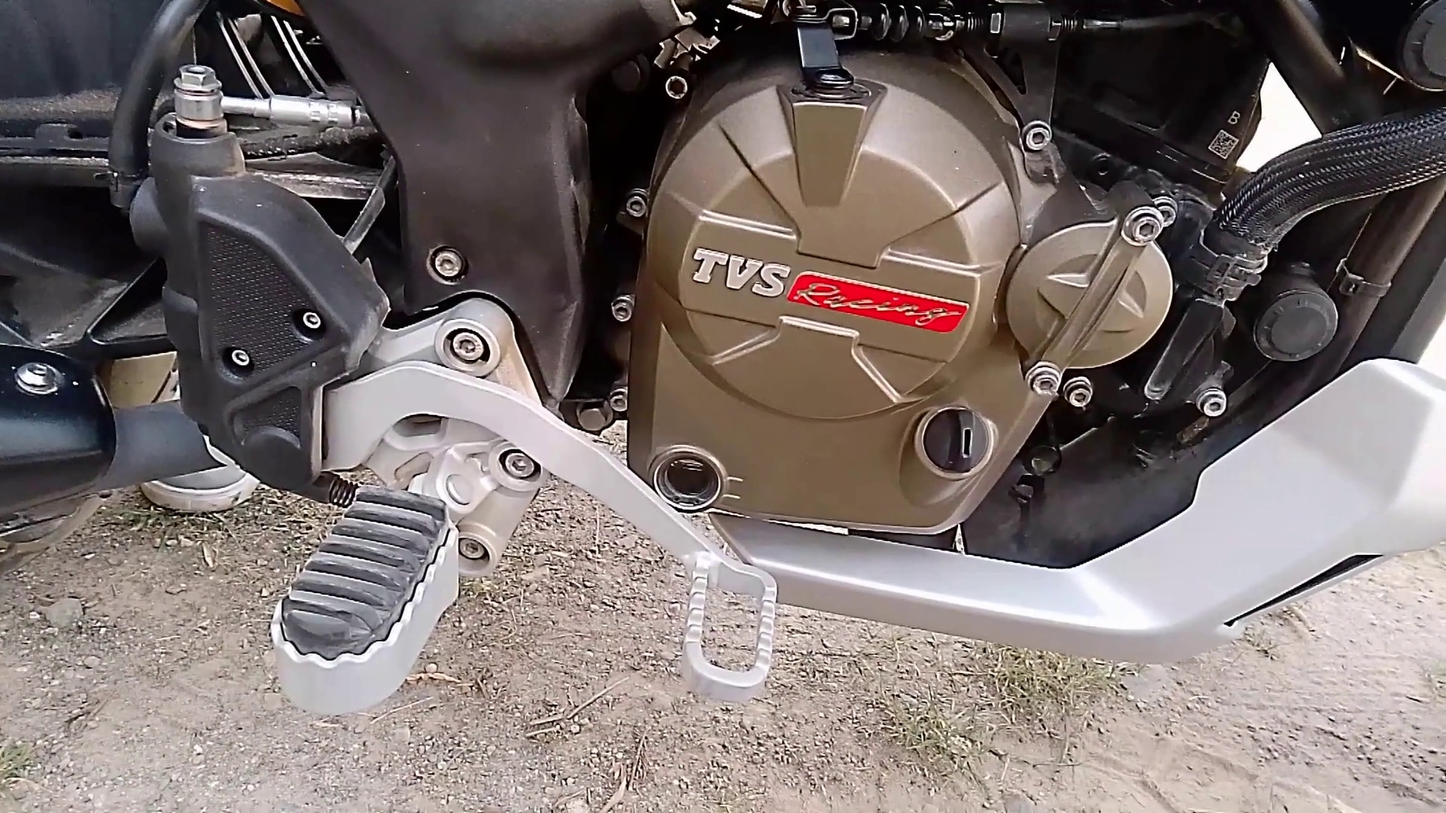engine: (616, 2, 1190, 563)
oil_cap: (906, 382, 1004, 489)
oil_marker: (638, 433, 753, 527)
